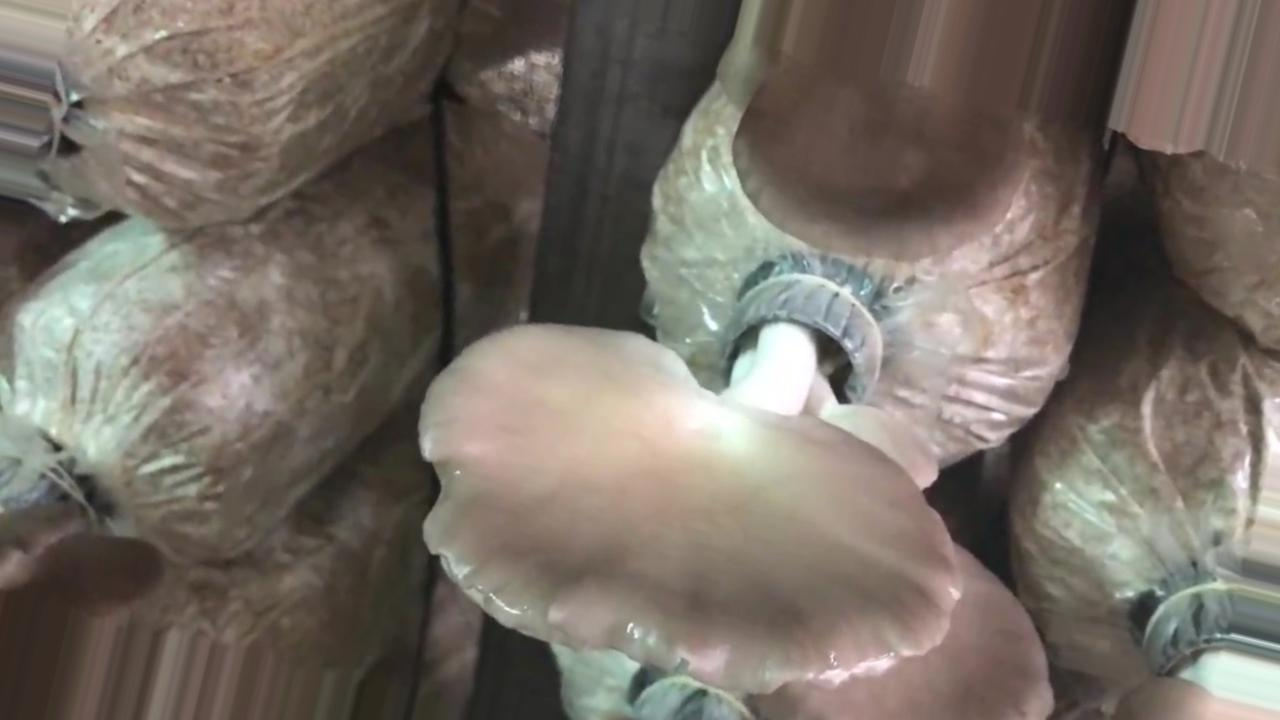nam: (420, 262, 966, 698), (730, 74, 1027, 264)
